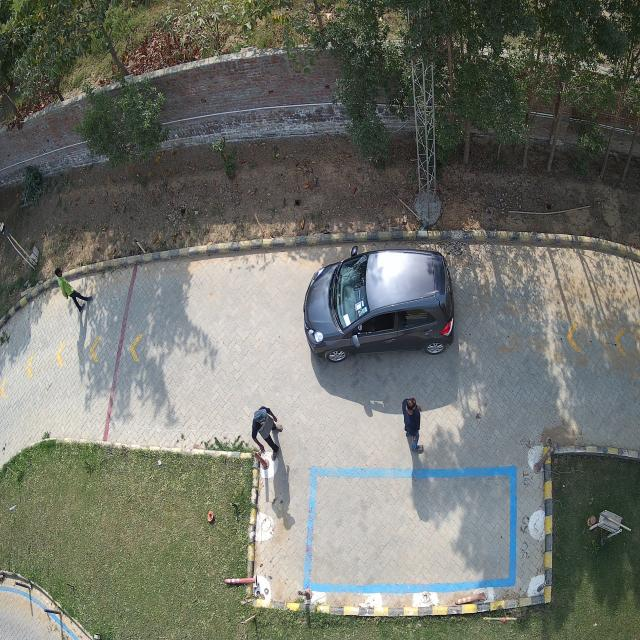car: (304, 248, 454, 362)
